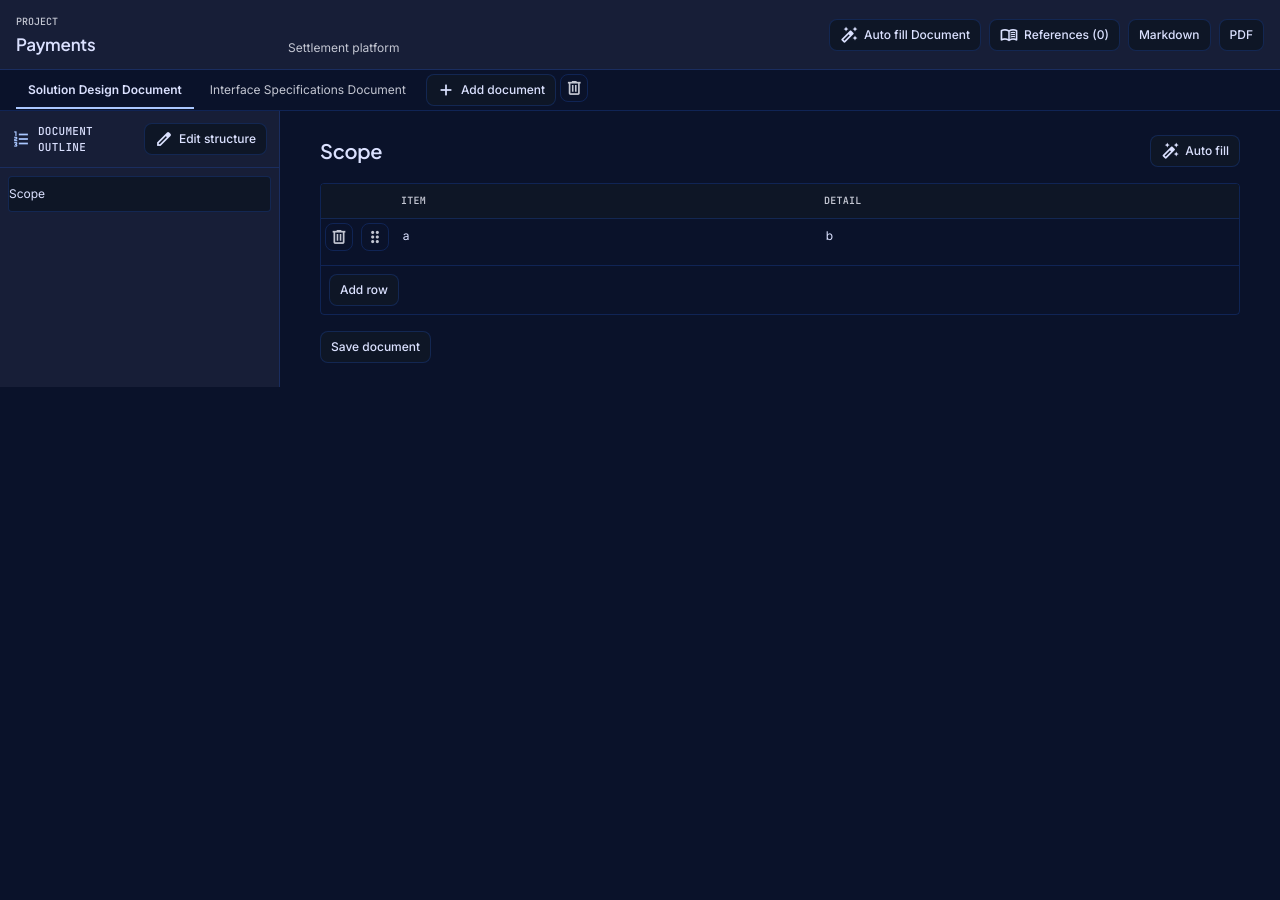
Test: adds a document from an unused layout and opens it
Check: the element named "Documents" is shown, box [16,72,418,108]
Click the button "Add document".
click(491, 90)  # box [426,74,556,106]
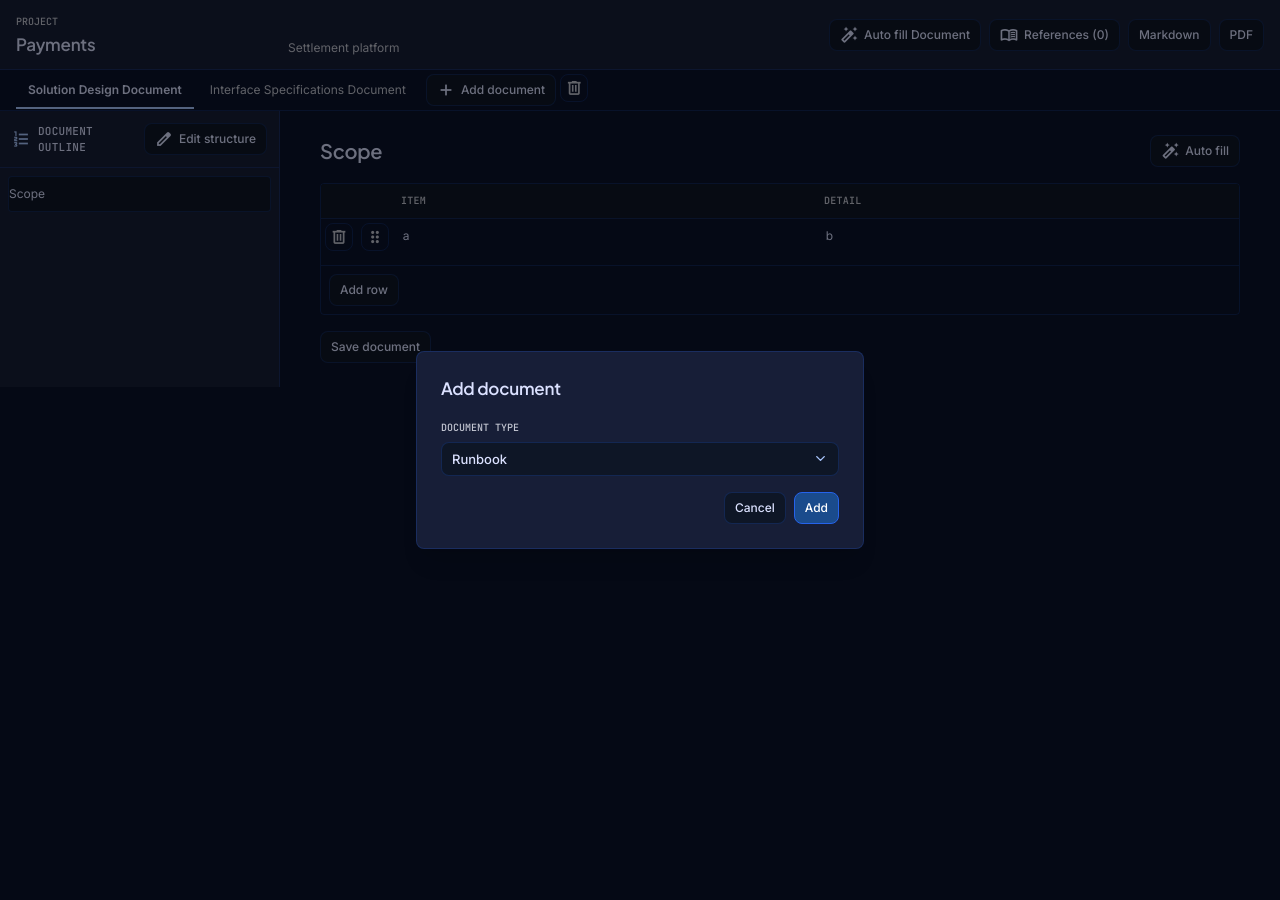
Click the button with aria-label "Document type".
click(480, 459)  # box [441,442,839,476]
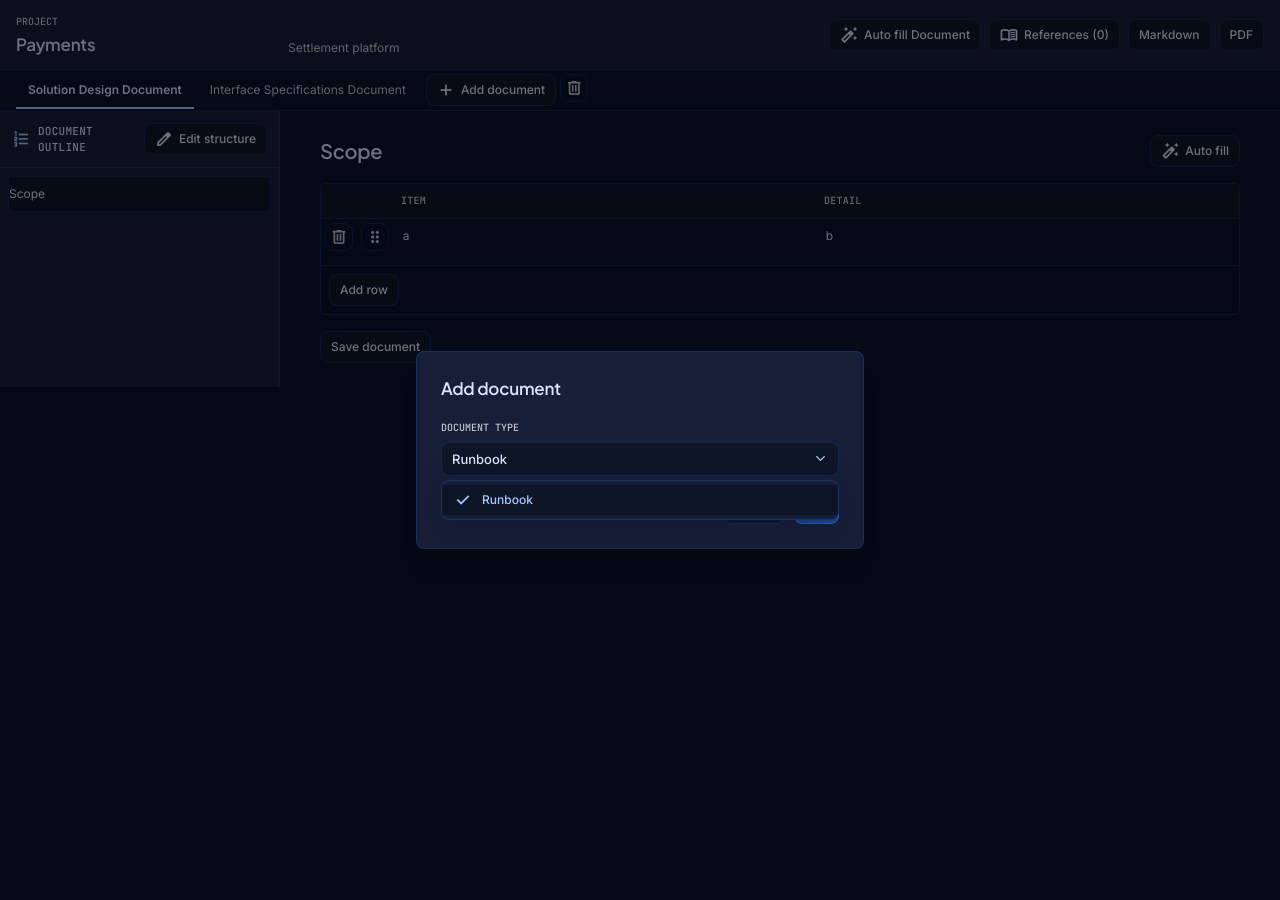
Check: the number of options is 1
Click the option "Runbook".
click(507, 500)  # box [442,485,838,515]
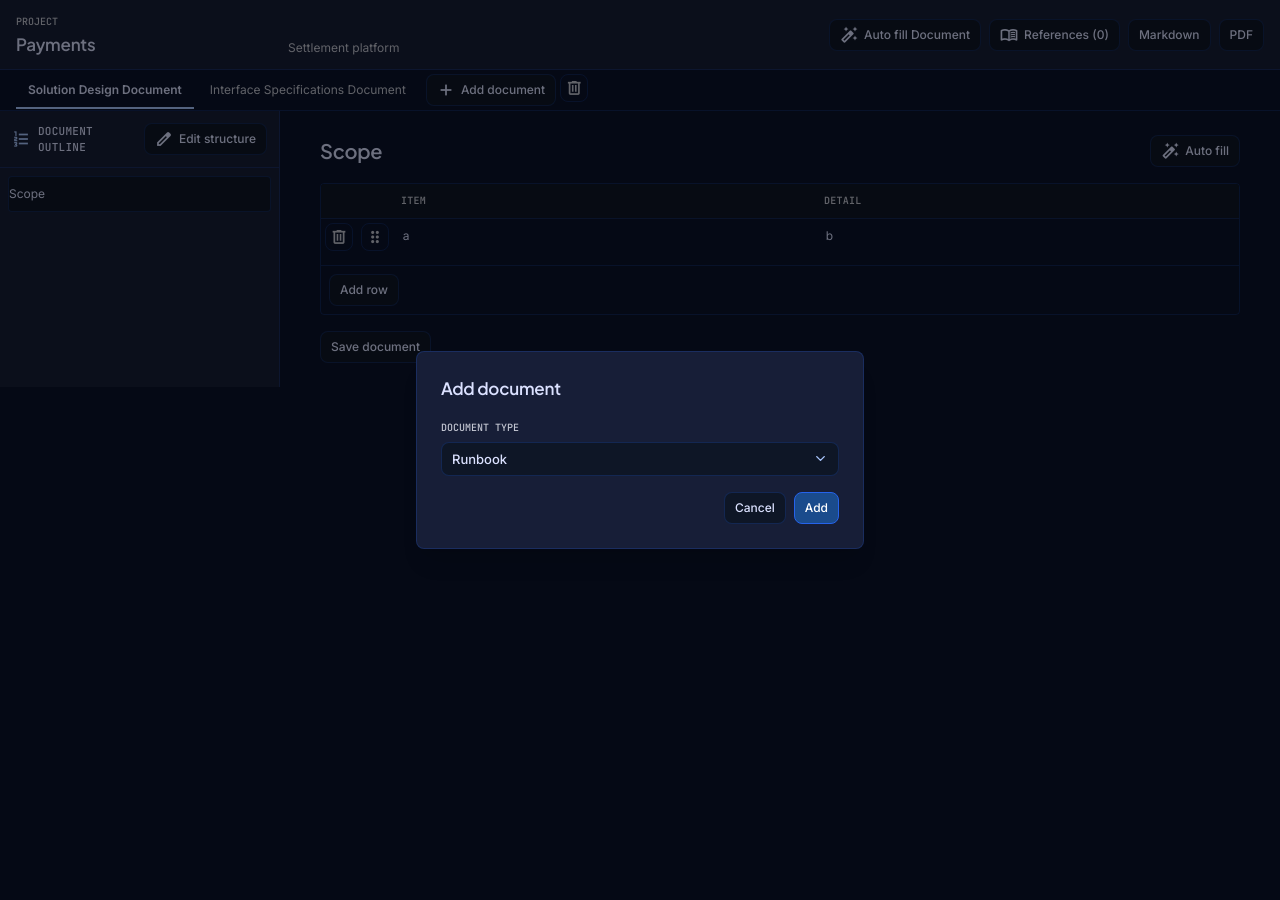
Click the button "Add".
click(816, 508)  # box [794,492,839,524]
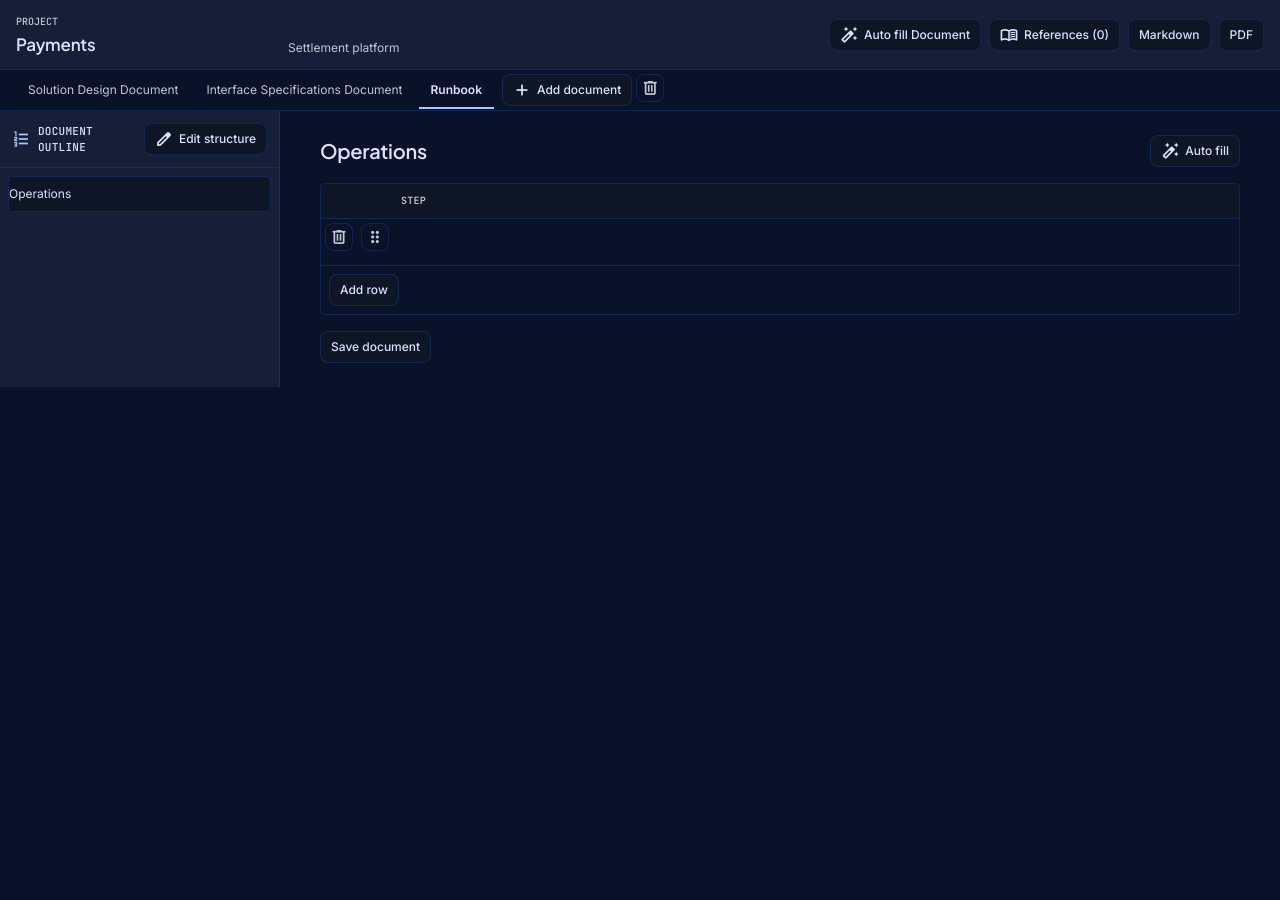
Check: the heading "Operations" is shown, box [320,137,427,165]
